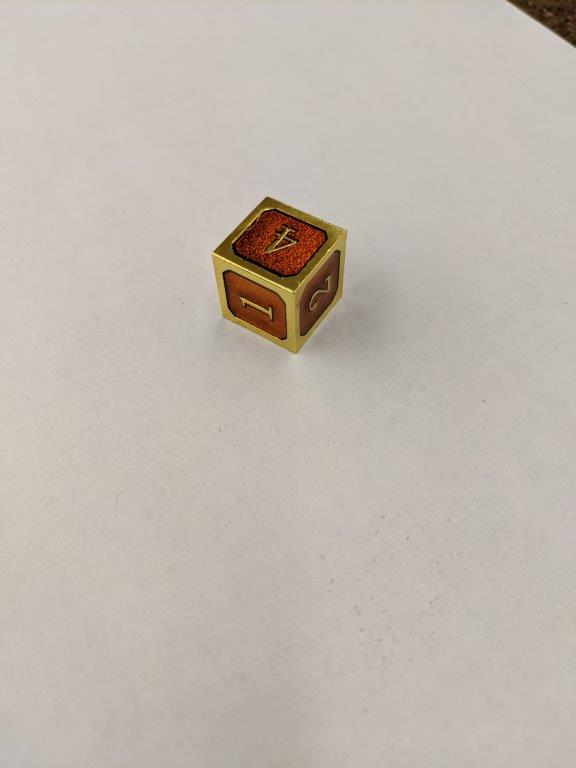d6-4: (211, 195, 350, 357)
